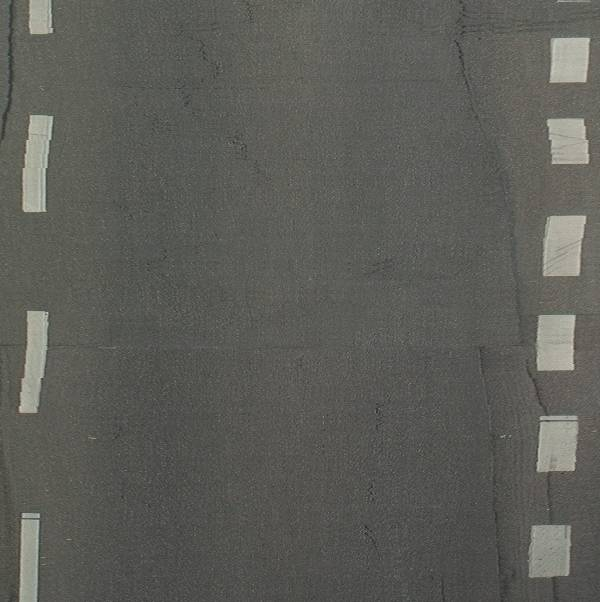road_damage: (187, 27, 228, 92), (223, 126, 260, 176), (371, 396, 392, 439)
